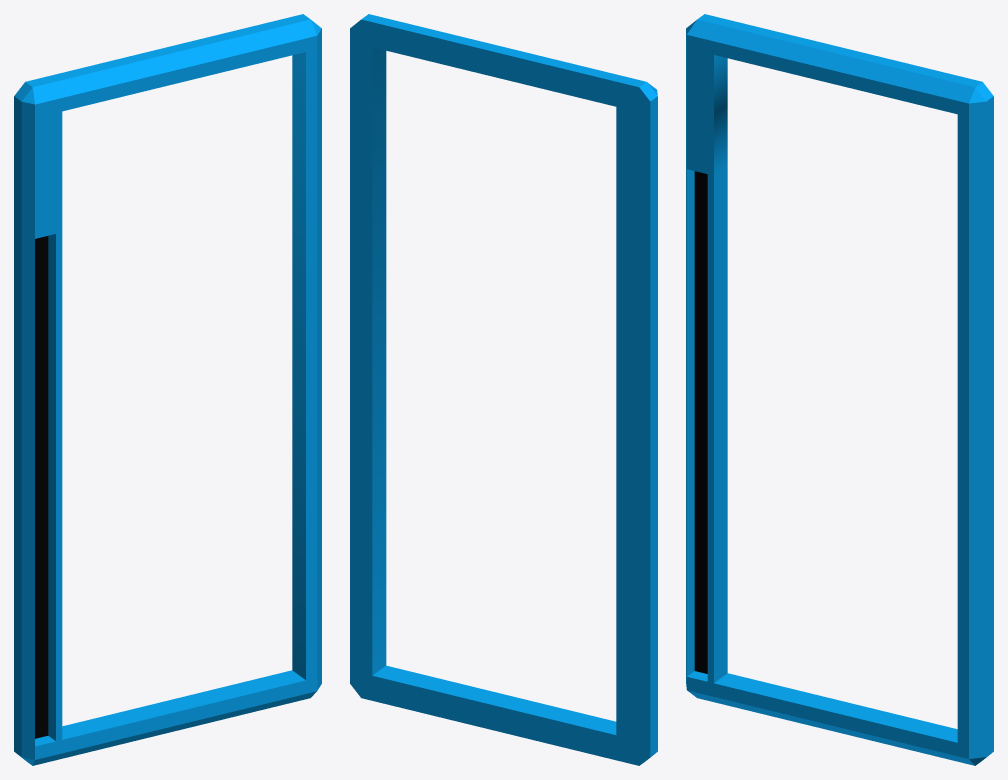
Rendered from waku.fbx.
3 views of the same model, side by side, from view 1: azimuth 30°, elevation 25°; view 2: azimuth 150°, elevation 25°; view 3: azimuth 330°, elevation 25° (orthographic).
Parts seen in each view (by area): view 1: pCube2; view 2: pCube2; view 3: pCube2.
Part boxes in pixels (x1,y1,x2,y2): pCube2: (14, 14, 321, 765); pCube2: (350, 14, 657, 765); pCube2: (686, 14, 993, 765).
Bounding box in the file's own units: 1250 × 2700 × 100.
